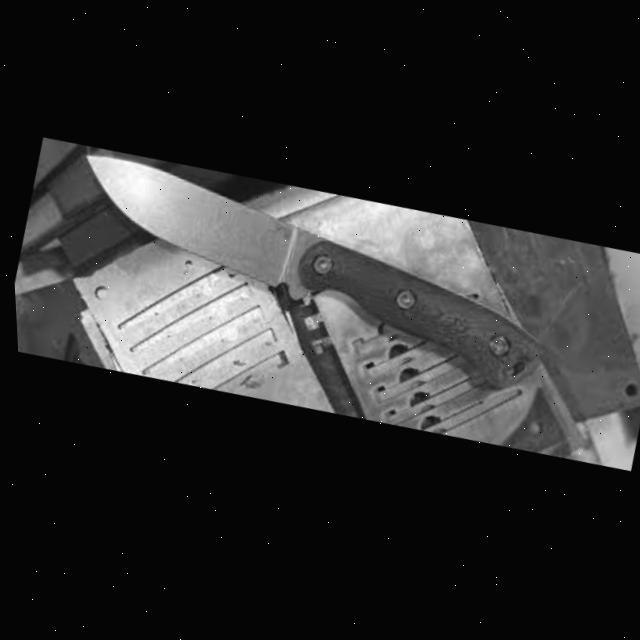Knife: (47, 131, 569, 420)
